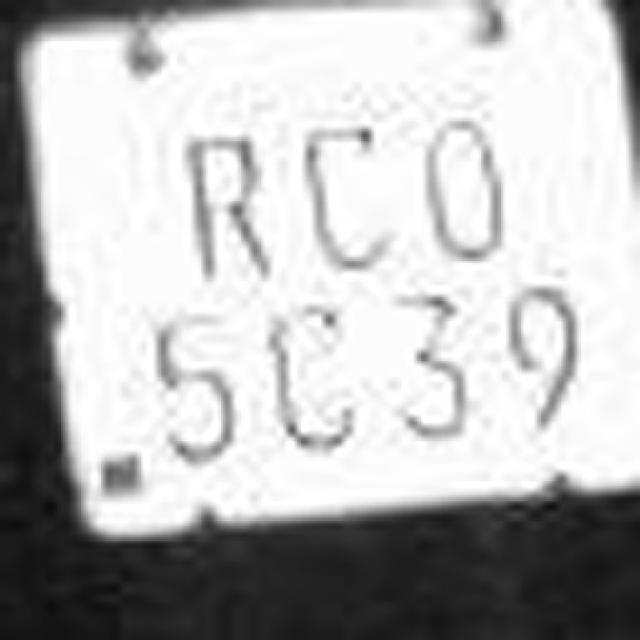3: (344, 272, 488, 456)
5: (108, 276, 264, 469)
9: (472, 271, 596, 464)
C: (289, 108, 436, 284)
J: (228, 285, 388, 460)
O: (388, 100, 564, 288)
R: (160, 112, 308, 296)
